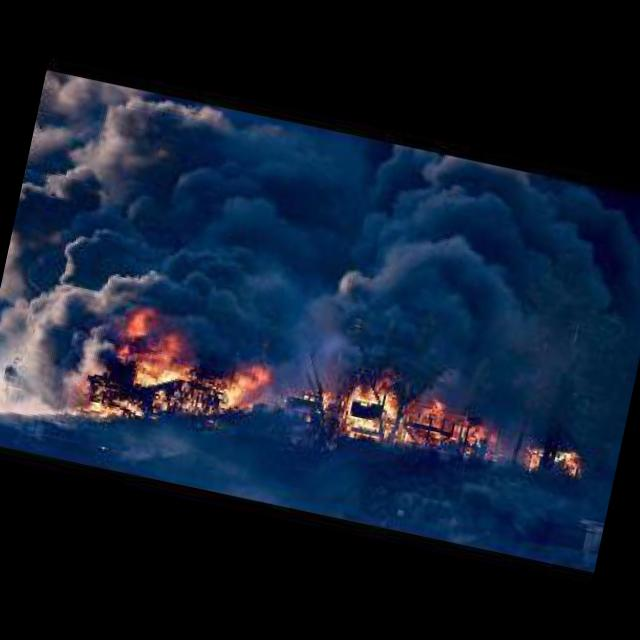fire: (56, 311, 278, 454), (318, 364, 504, 476), (520, 432, 592, 484)
